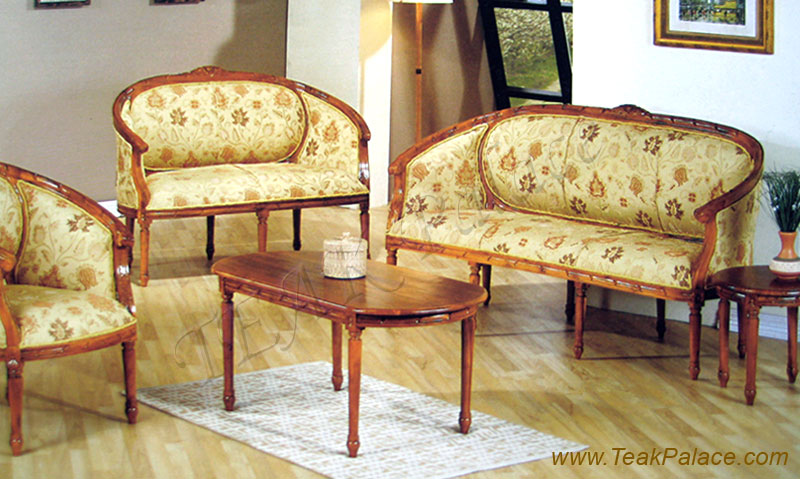Carving Table: (203, 235, 488, 459)
